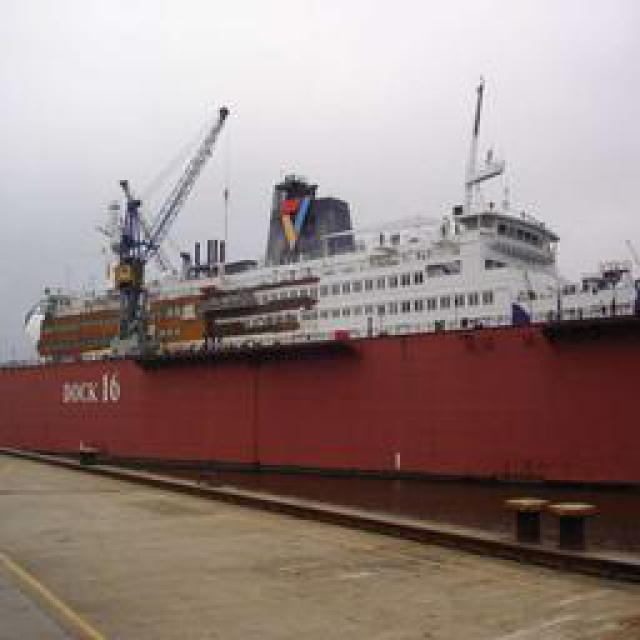Ship: (15, 74, 630, 477)
